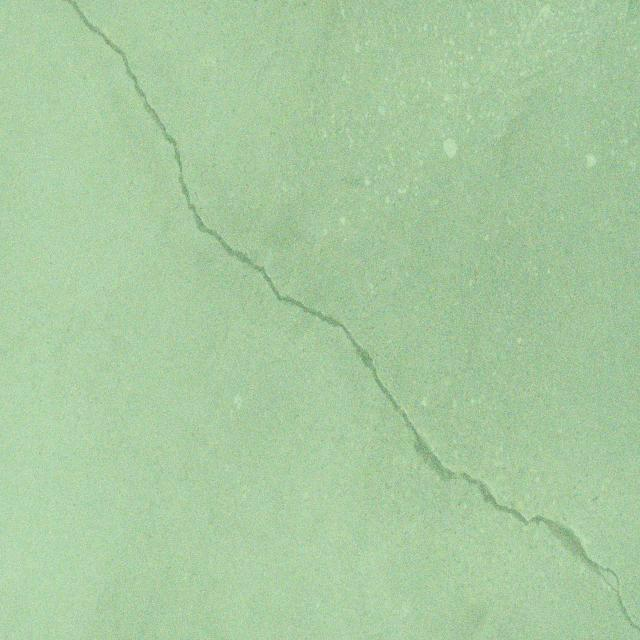crack: (62, 0, 640, 633)
